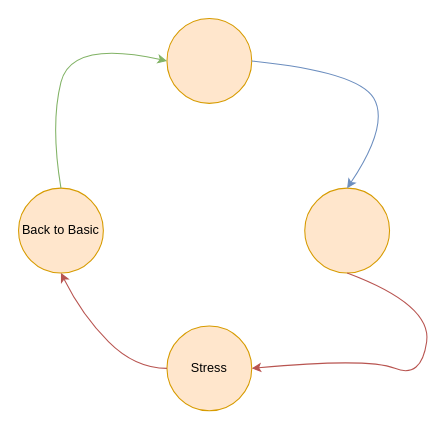
Image size: 446x429. Some labels were removed from this diagram. The centre of each missing label's shape, as x and y in pixels:
"Build APP" goes at (x=347, y=230).
"Learn Framework" goes at (x=209, y=60).
